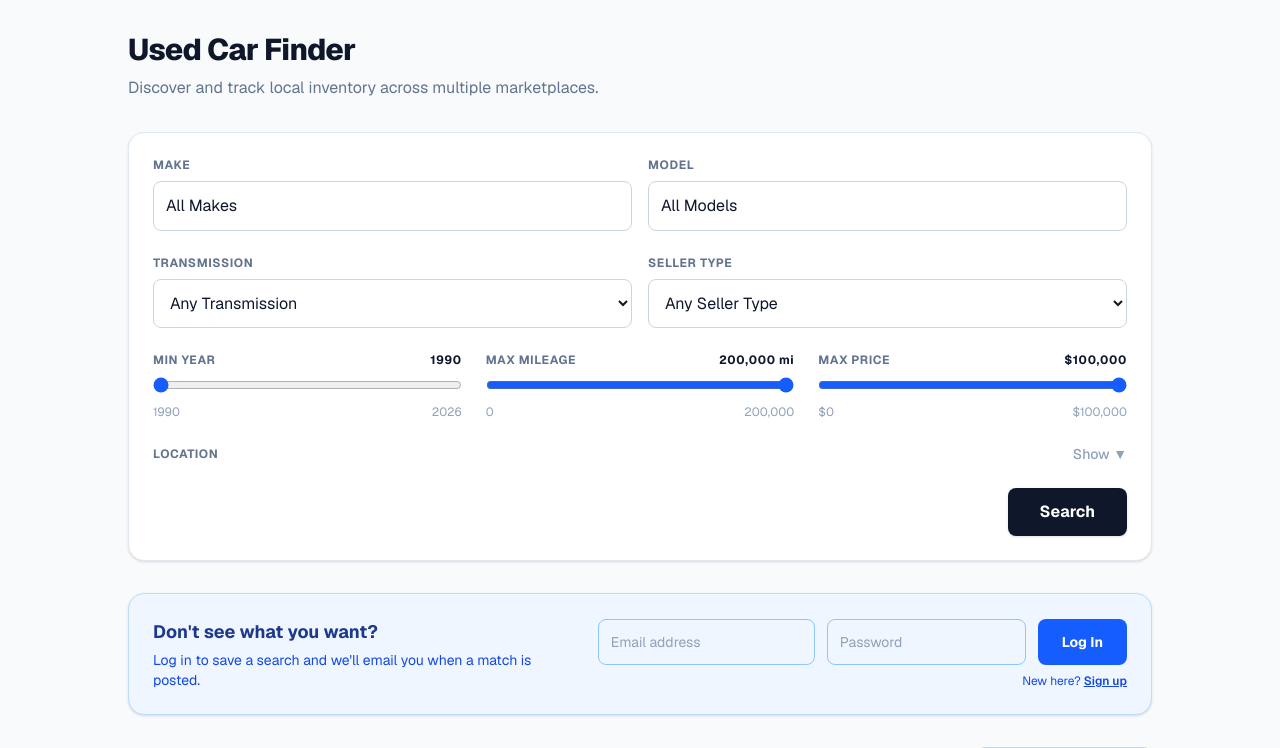
Test: auth › shows an error message when login fails
The width and height of the screenshot is (1280, 748).
In the field with placeholder "Email address": [706, 642] box 598,619 -> 815,665, type "owner@example.com"
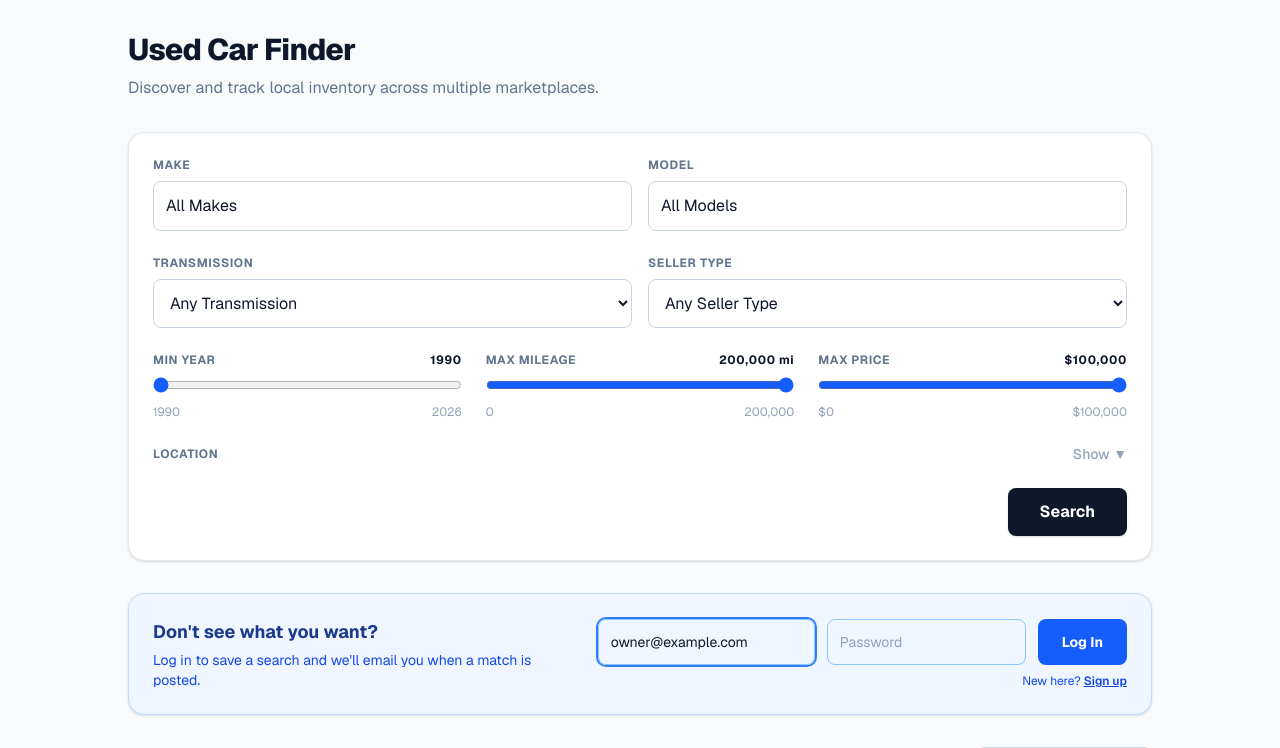
In the password field with placeholder "Password": [926, 642] box 827,619 -> 1026,665, type "wrongpass"
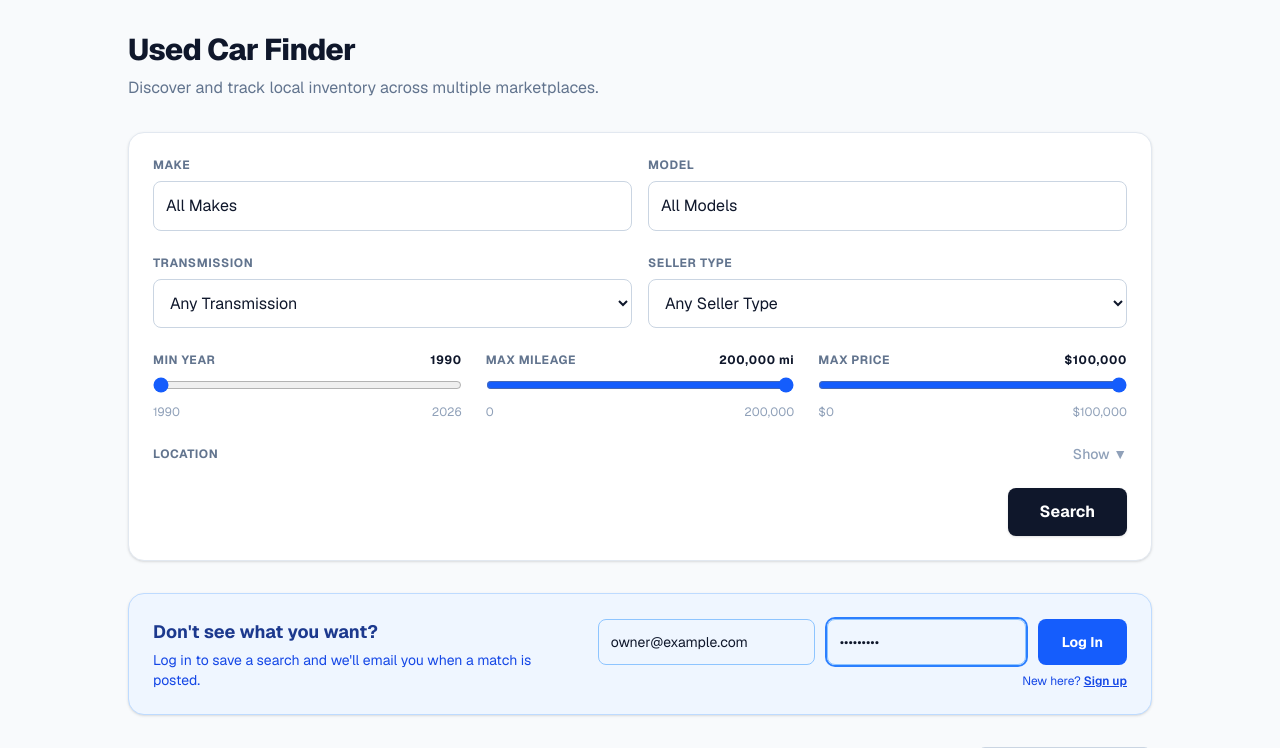
Click the button "Log In": [1082, 642] box 1038,619 -> 1127,665
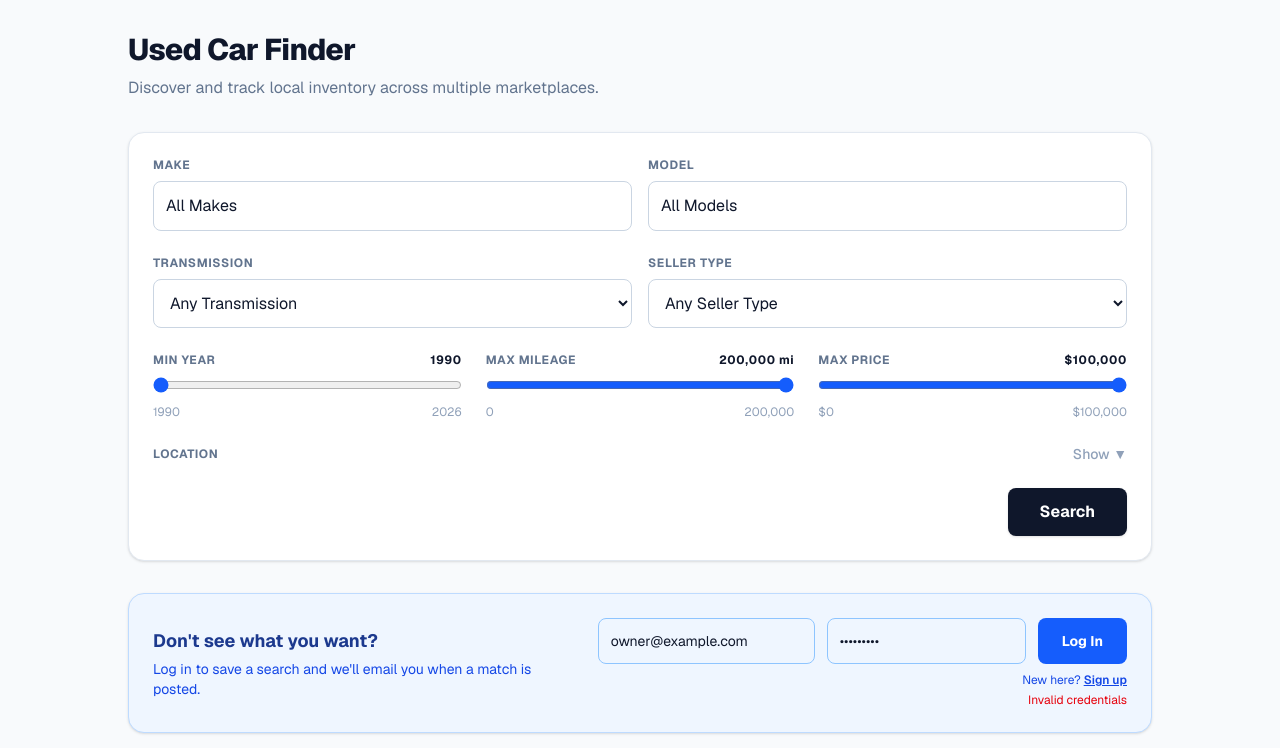
Now the text "Invalid credentials" is shown, box 1028,692 -> 1127,708
